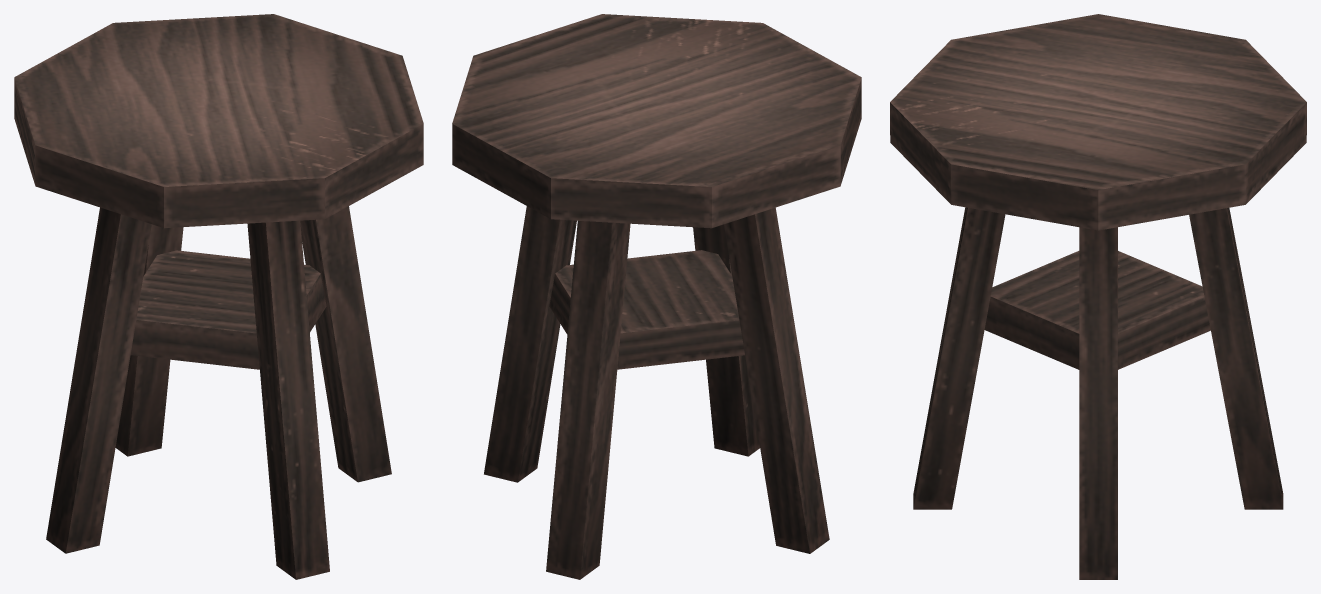
Rendered from Stool.fbx.
3 views of the same model, side by side, from view 1: azimuth 30°, elevation 25°; view 2: azimuth 150°, elevation 25°; view 3: azimuth 270°, elevation 25° (orthographic).
Parts seen in each view (by area): view 1: Stool; view 2: Stool; view 3: Stool.
Boxes of the visible parts, box(x1,y1,x2,y2) form: Stool: box(14, 14, 423, 579); Stool: box(452, 14, 861, 579); Stool: box(890, 14, 1306, 579).
Size of the model in its own units: 48.82 by 51.63 by 48.82.
